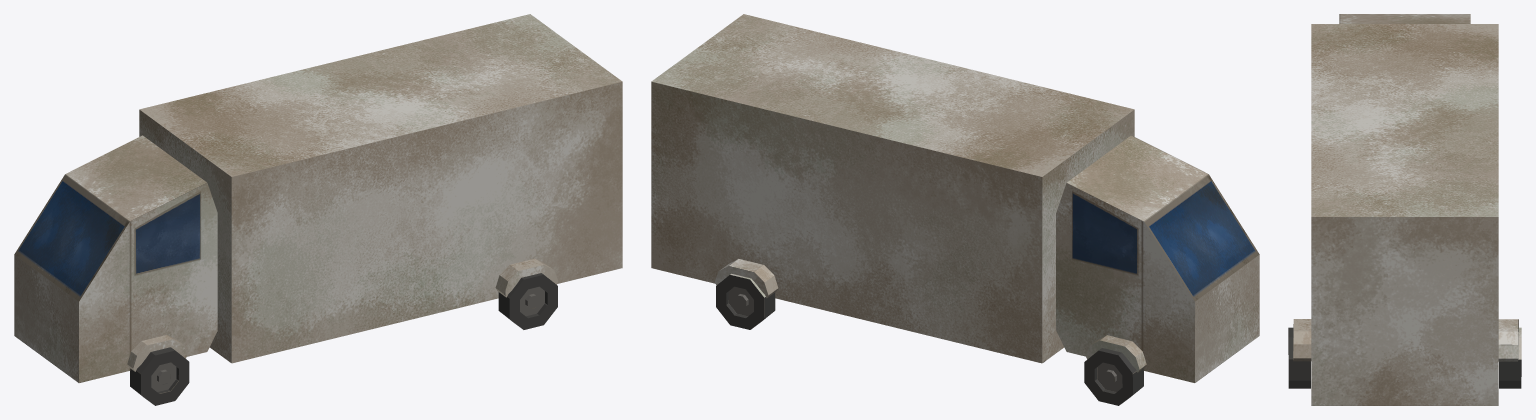
File: CAMIONfbx.fbx
3 views of the same model, side by side, from view 1: azimuth 30°, elevation 25°; view 2: azimuth 150°, elevation 25°; view 3: azimuth 270°, elevation 25° (orthographic).
Visible parts, largest first — view 1: Camion; view 2: Camion; view 3: Camion.
Boxes of the visible parts, box(x1,y1,x2,y2) form: Camion: box(14, 14, 622, 405); Camion: box(651, 14, 1259, 405); Camion: box(1288, 14, 1521, 405).
Bounding box in the file's own units: 2022 × 778 × 761.
